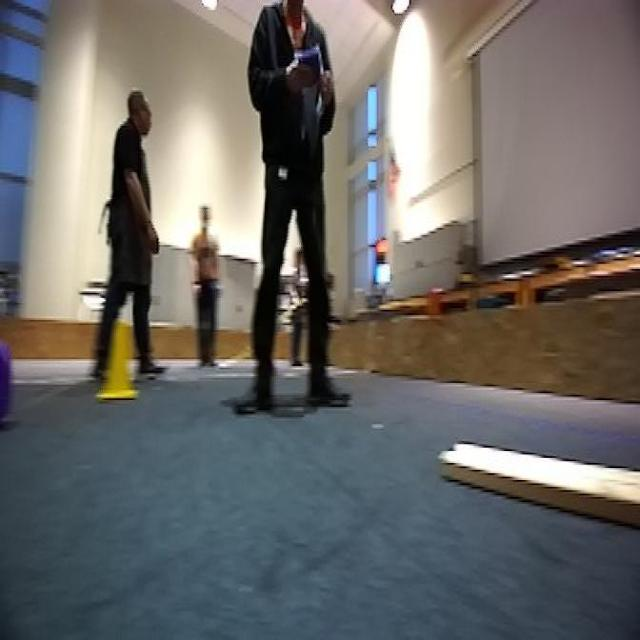frc_cone: (102, 318, 133, 400)
frc_cube: (0, 325, 19, 444)
